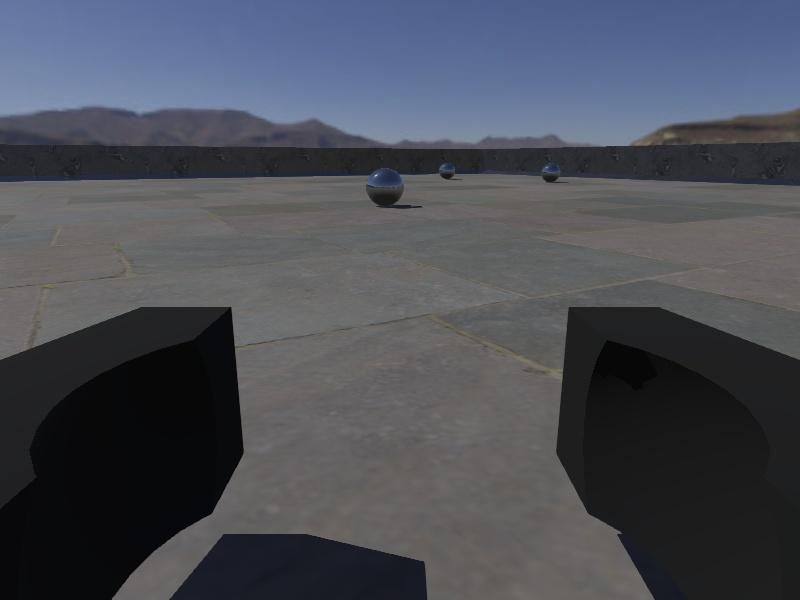steel ball: (365, 168, 405, 208), (540, 162, 562, 182), (438, 162, 456, 179)
